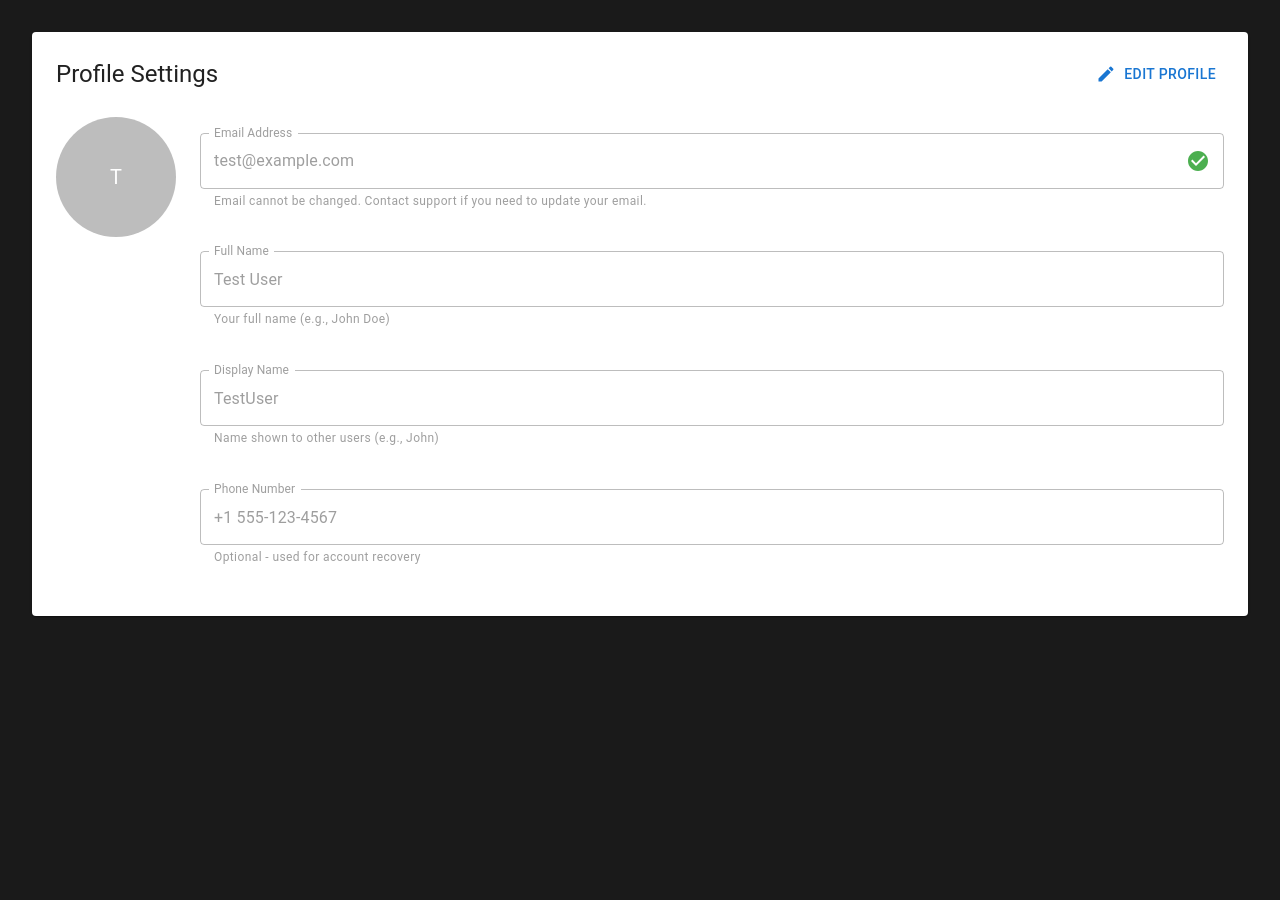
Scenario: ProfileSettings › form validation › should show error when name is empty
This screenshot has width=1280, height=900.
Click the button "Edit Profile". click: click(1158, 74)
box: [1092,56,1224,92]
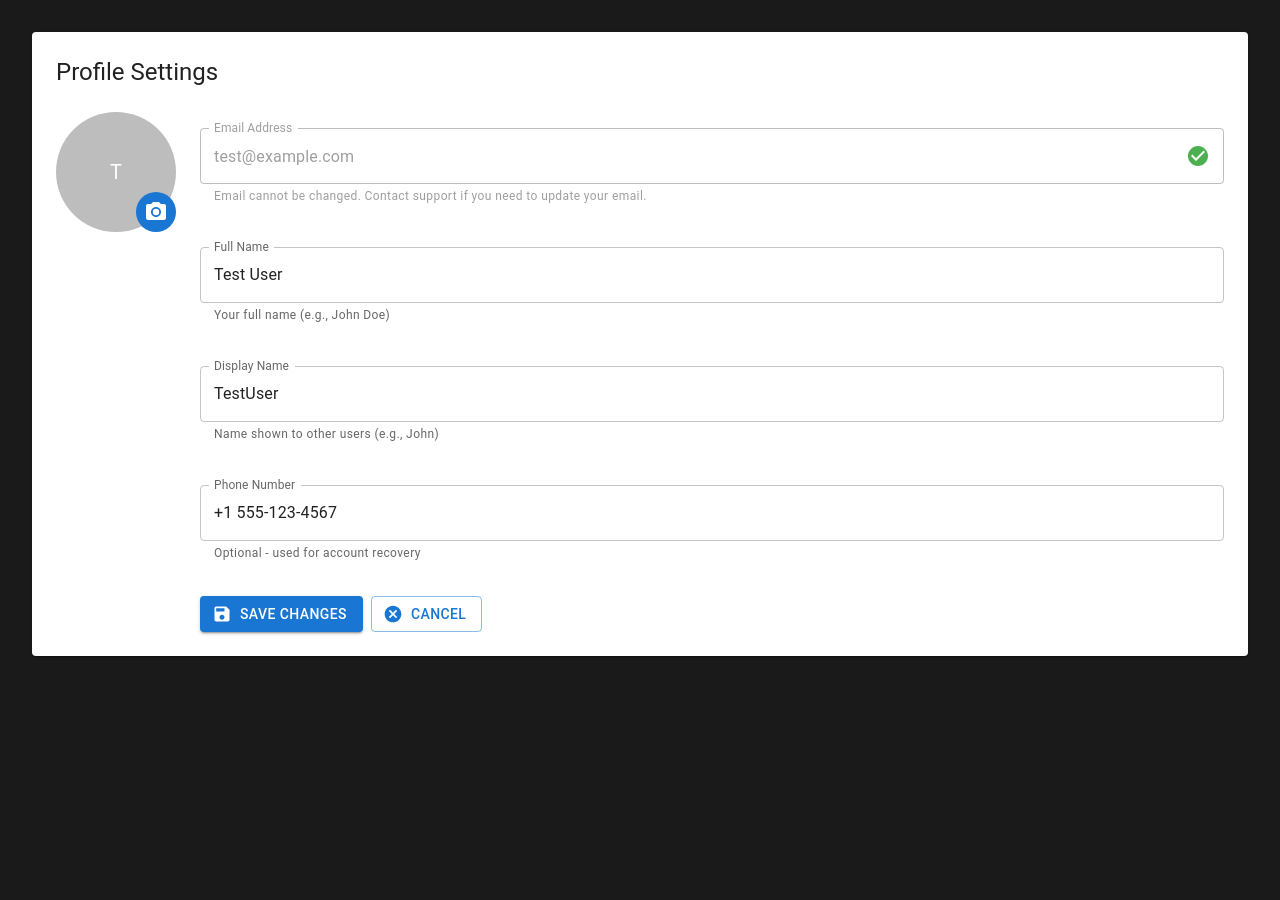
Clear the field labelled "Full Name". click: (712, 275)
box: [200,247,1224,303]
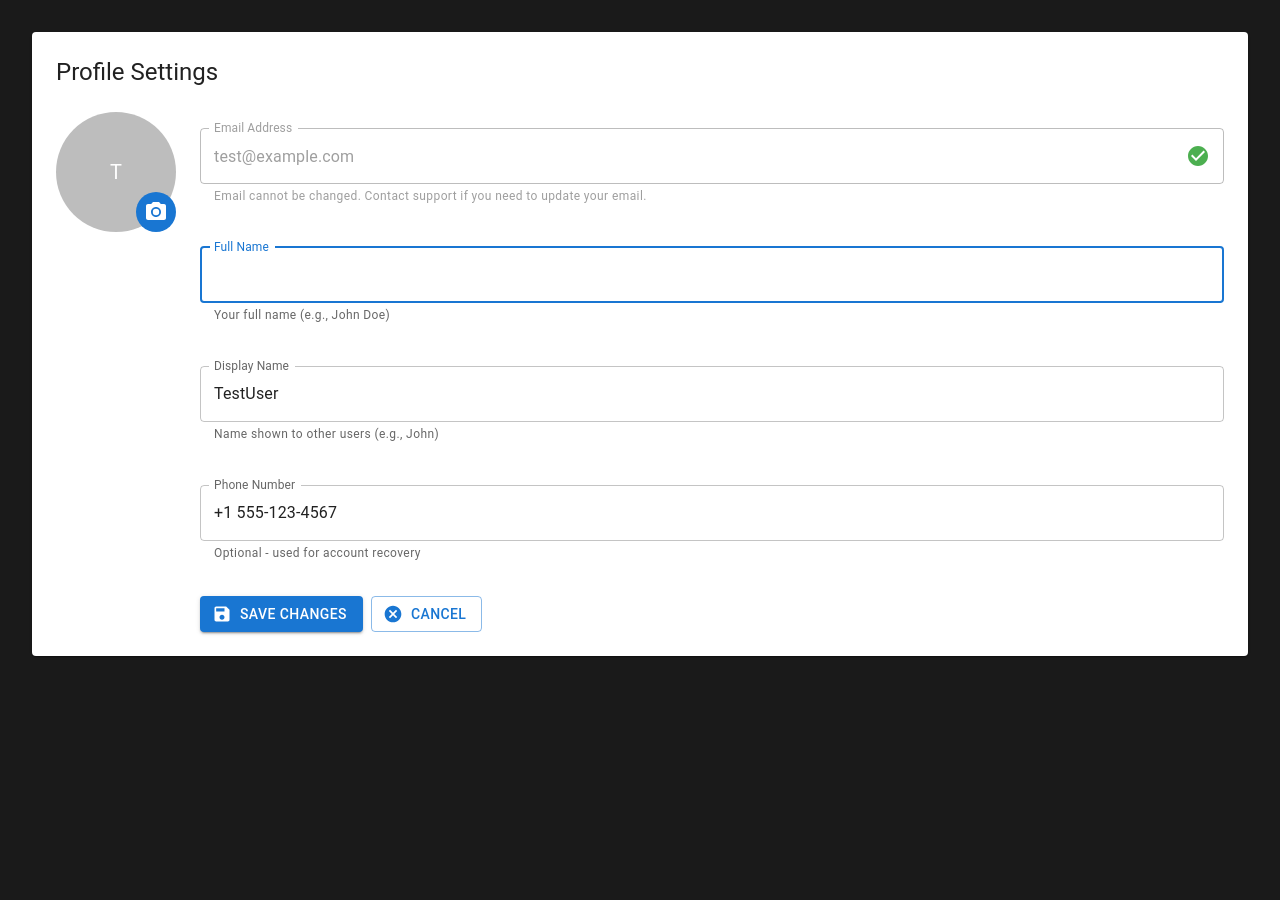
Click the button "Save Changes". click: click(281, 614)
box: [200,596,363,632]
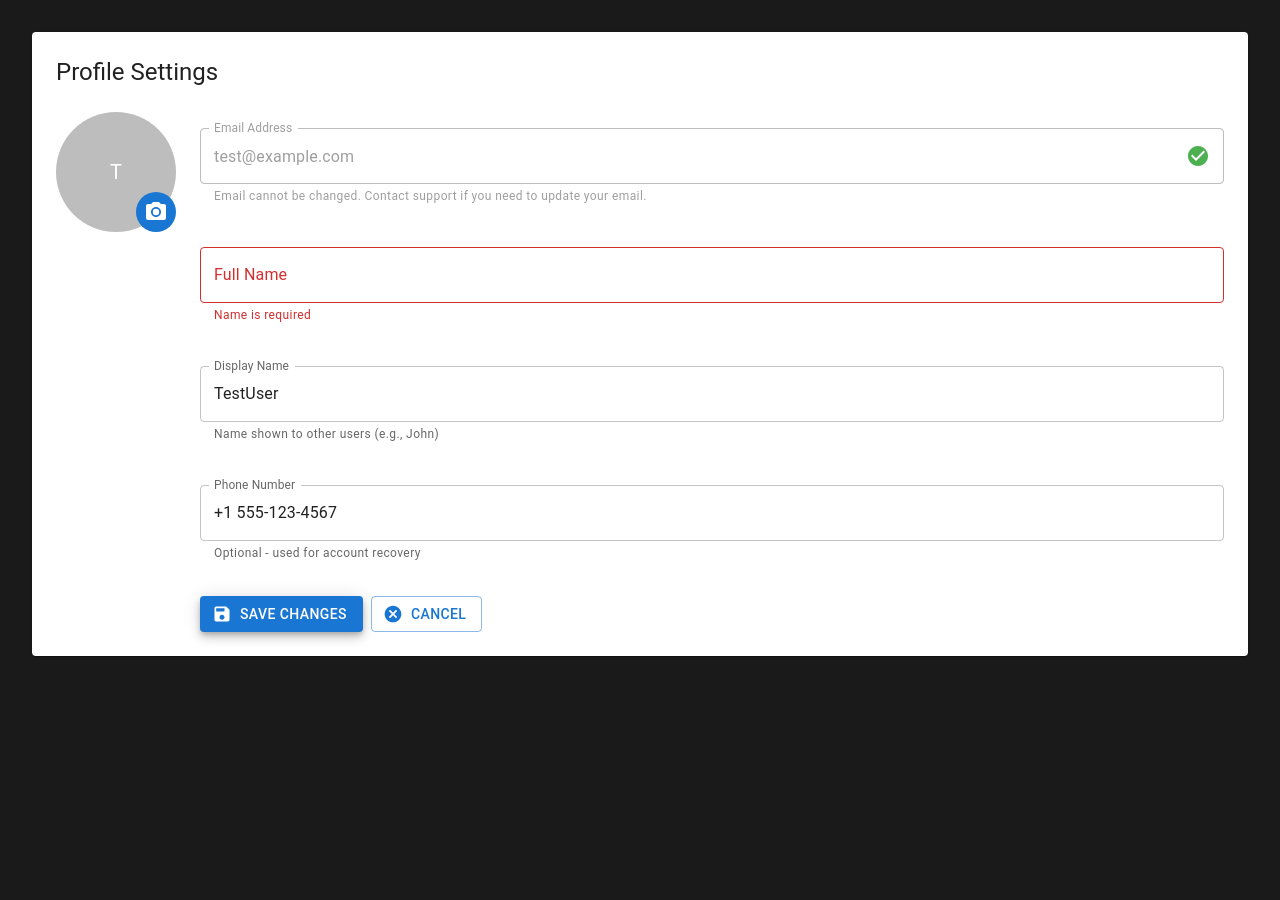
Expected: the text "Name is required" is shown, [214,308,311,322]
